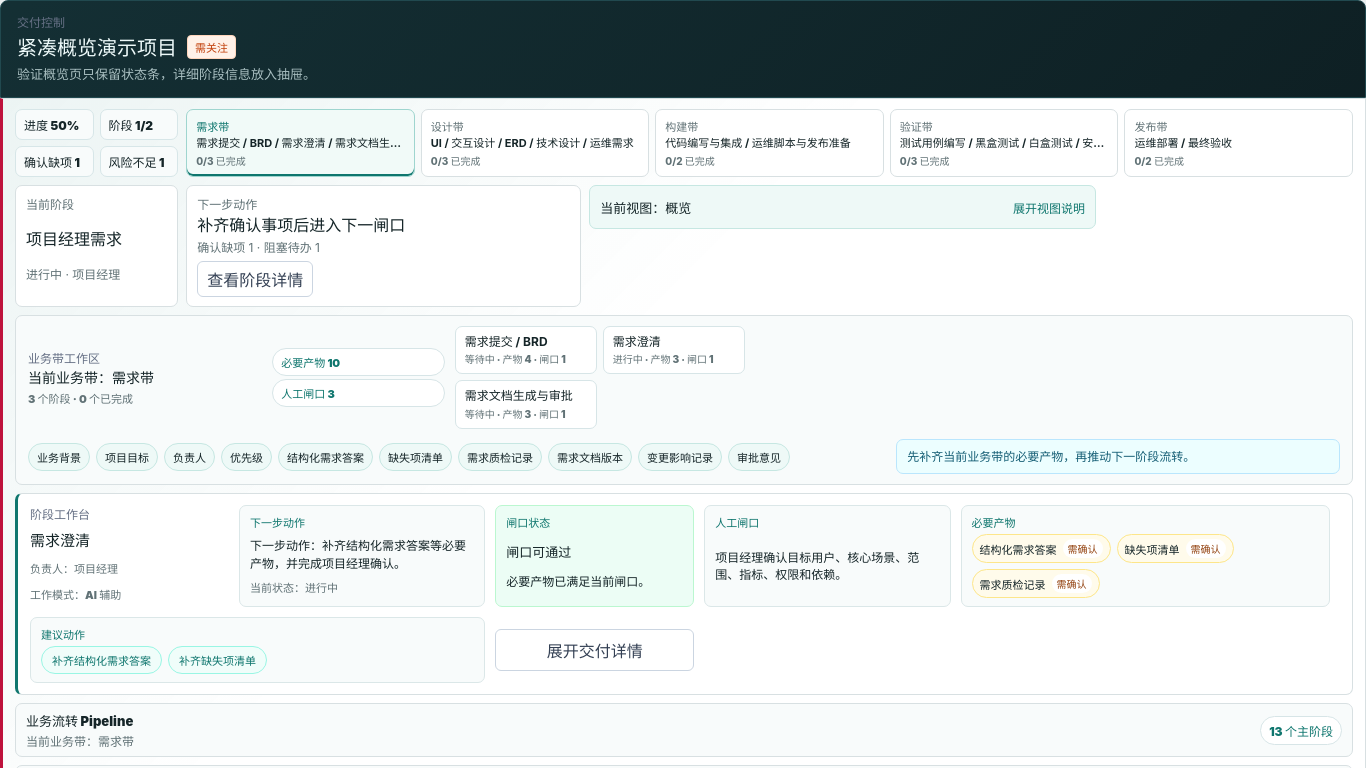
ProjectWorkspace › uses a compact command strip on the overview and keeps stage detail expandable
Expected: the text "当前视图：概览" is shown, [600,200,691,216]
Expected: the text "进度 50%" is shown, [15,108,94,140]
Step 1. Click the button "查看阶段详情" → x=255, y=279, box [197,261,313,297]
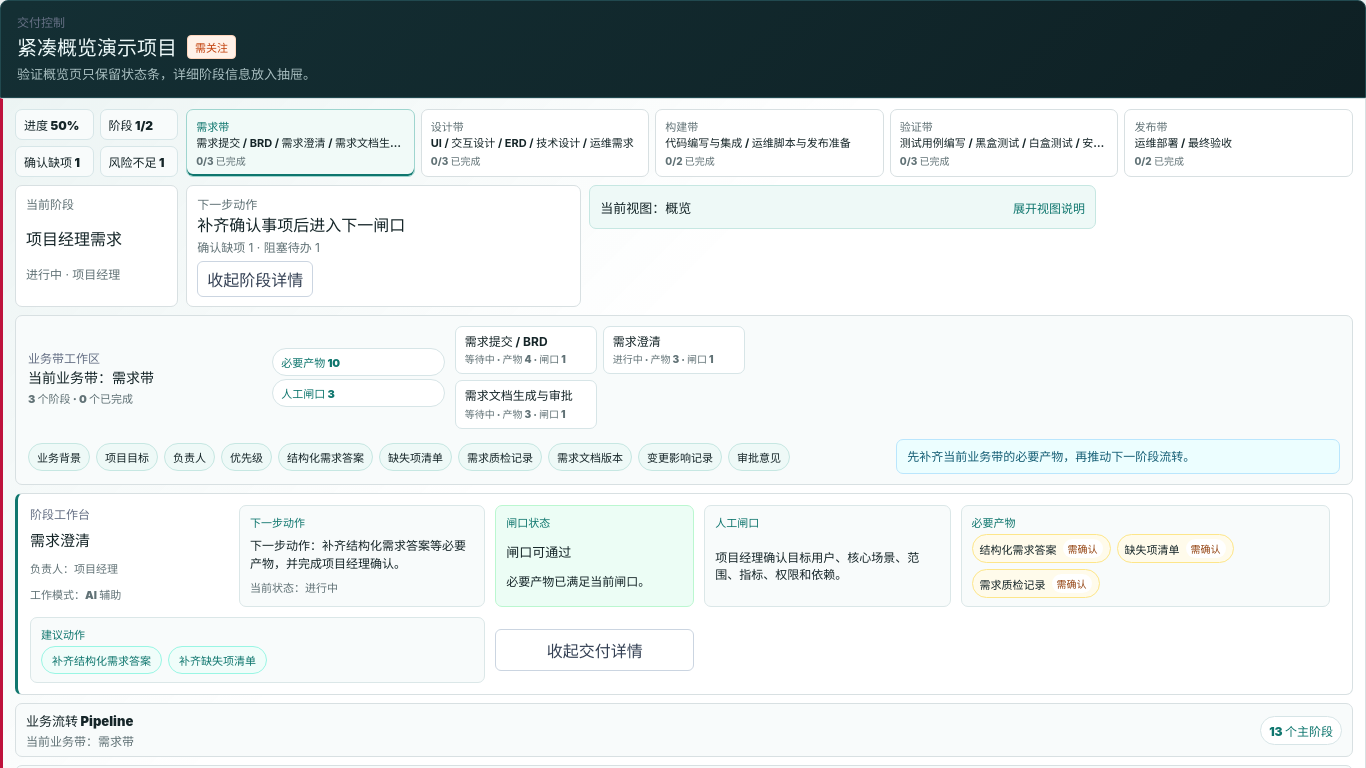
Result: the button "收起阶段详情" is shown at [197,261,313,297]
